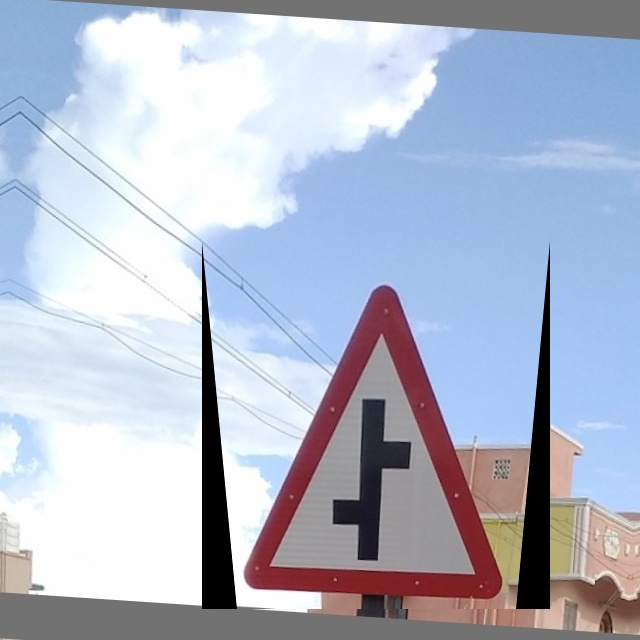Staggered_Intersection: (202, 241, 550, 609)
